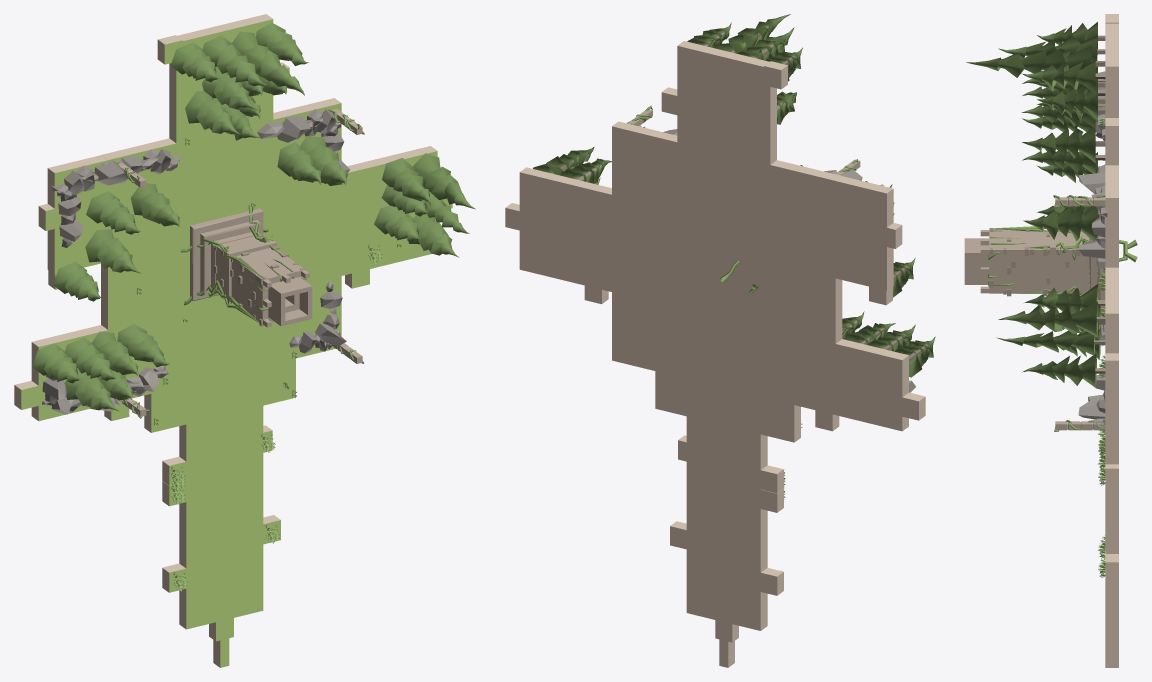
The model's file is tower.gltf.
The picture shows the model from 3 angles, left to right: view 1: azimuth 30°, elevation 25°; view 2: azimuth 150°, elevation 25°; view 3: azimuth 270°, elevation 25°; orthographic projection. The views are drawn at different scales.
Parts seen in each view (by area): view 1: ground_top, Object_8, castle, Object_6, Object_9, Object_11, Object_4; view 2: Object_6, Object_8, Object_10; view 3: Object_8, Object_6, castle, Object_9, Object_11, Object_10, Object_2, Object_4, Object_5.
Part boxes in pixels (<box>): ground_top: <box>21,19,452,667</box>; Object_8: <box>32,22,475,411</box>; castle: <box>118,109,362,416</box>; Object_6: <box>14,14,436,667</box>; Object_9: <box>42,109,350,414</box>; Object_11: <box>116,109,364,418</box>; Object_4: <box>136,138,382,591</box>; Object_6: <box>505,41,925,667</box>; Object_8: <box>533,14,935,377</box>; Object_10: <box>552,26,928,361</box>; Object_8: <box>966,22,1100,387</box>; Object_6: <box>1105,14,1118,667</box>; castle: <box>964,197,1105,430</box>; Object_9: <box>1078,71,1107,427</box>; Object_11: <box>988,195,1137,431</box>; Object_10: <box>1091,35,1105,373</box>; Object_2: <box>989,228,1080,296</box>; Object_4: <box>1098,118,1105,558</box>; Object_5: <box>1098,308,1105,577</box>.
Size of the model in its own units: 44.35 by 62.71 by 15.77.
